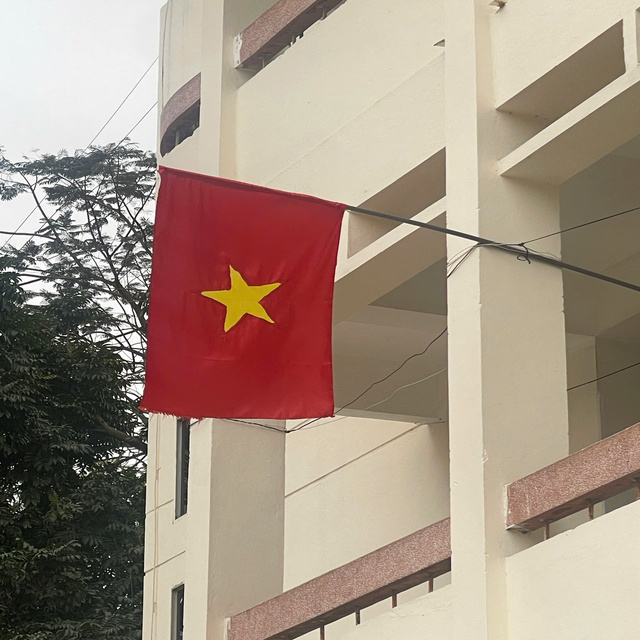laco: (130, 157, 358, 461)
